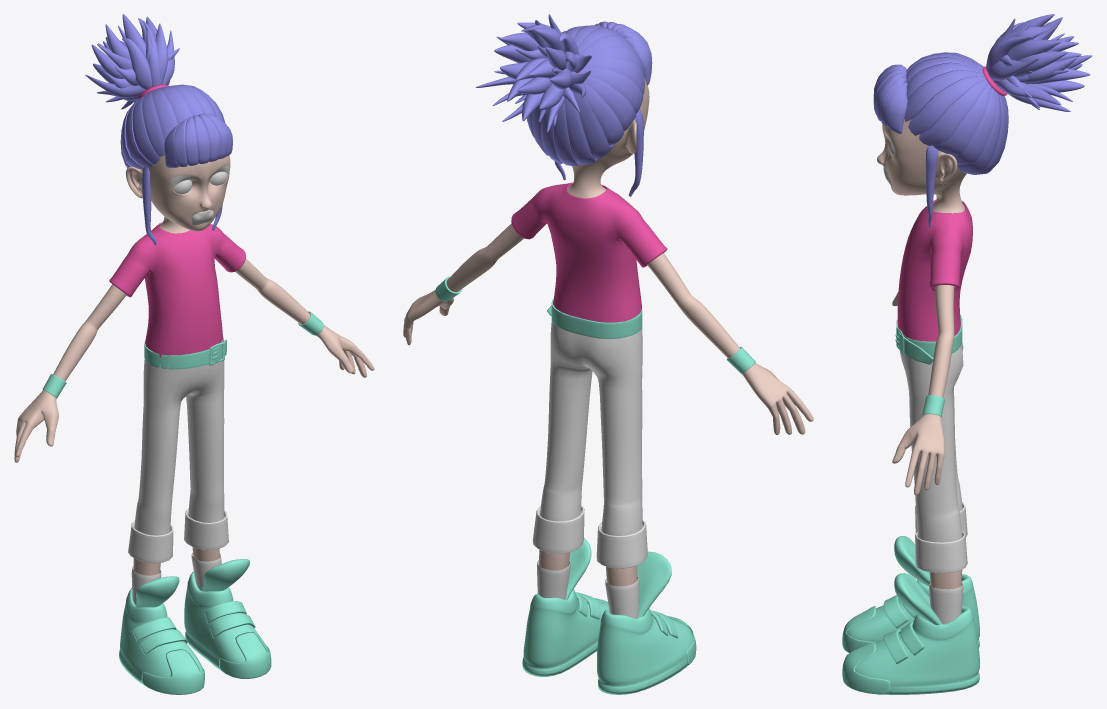
3 renders of one model, left to right at view 1: azimuth 30°, elevation 25°; view 2: azimuth 150°, elevation 25°; view 3: azimuth 270°, elevation 25°, orthographic. The views are drawn at different scales.
Parts seen in each view (by area): view 1: uploads_files_4001157_toma; view 2: uploads_files_4001157_toma; view 3: uploads_files_4001157_toma.
Boxes of the visible parts, x1=… form: uploads_files_4001157_toma: x1=14, y1=14, x2=374, y2=694; uploads_files_4001157_toma: x1=403, y1=14, x2=813, y2=694; uploads_files_4001157_toma: x1=842, y1=14, x2=1092, y2=694.
Size of the model in its own units: 706 by 1131 by 396.
